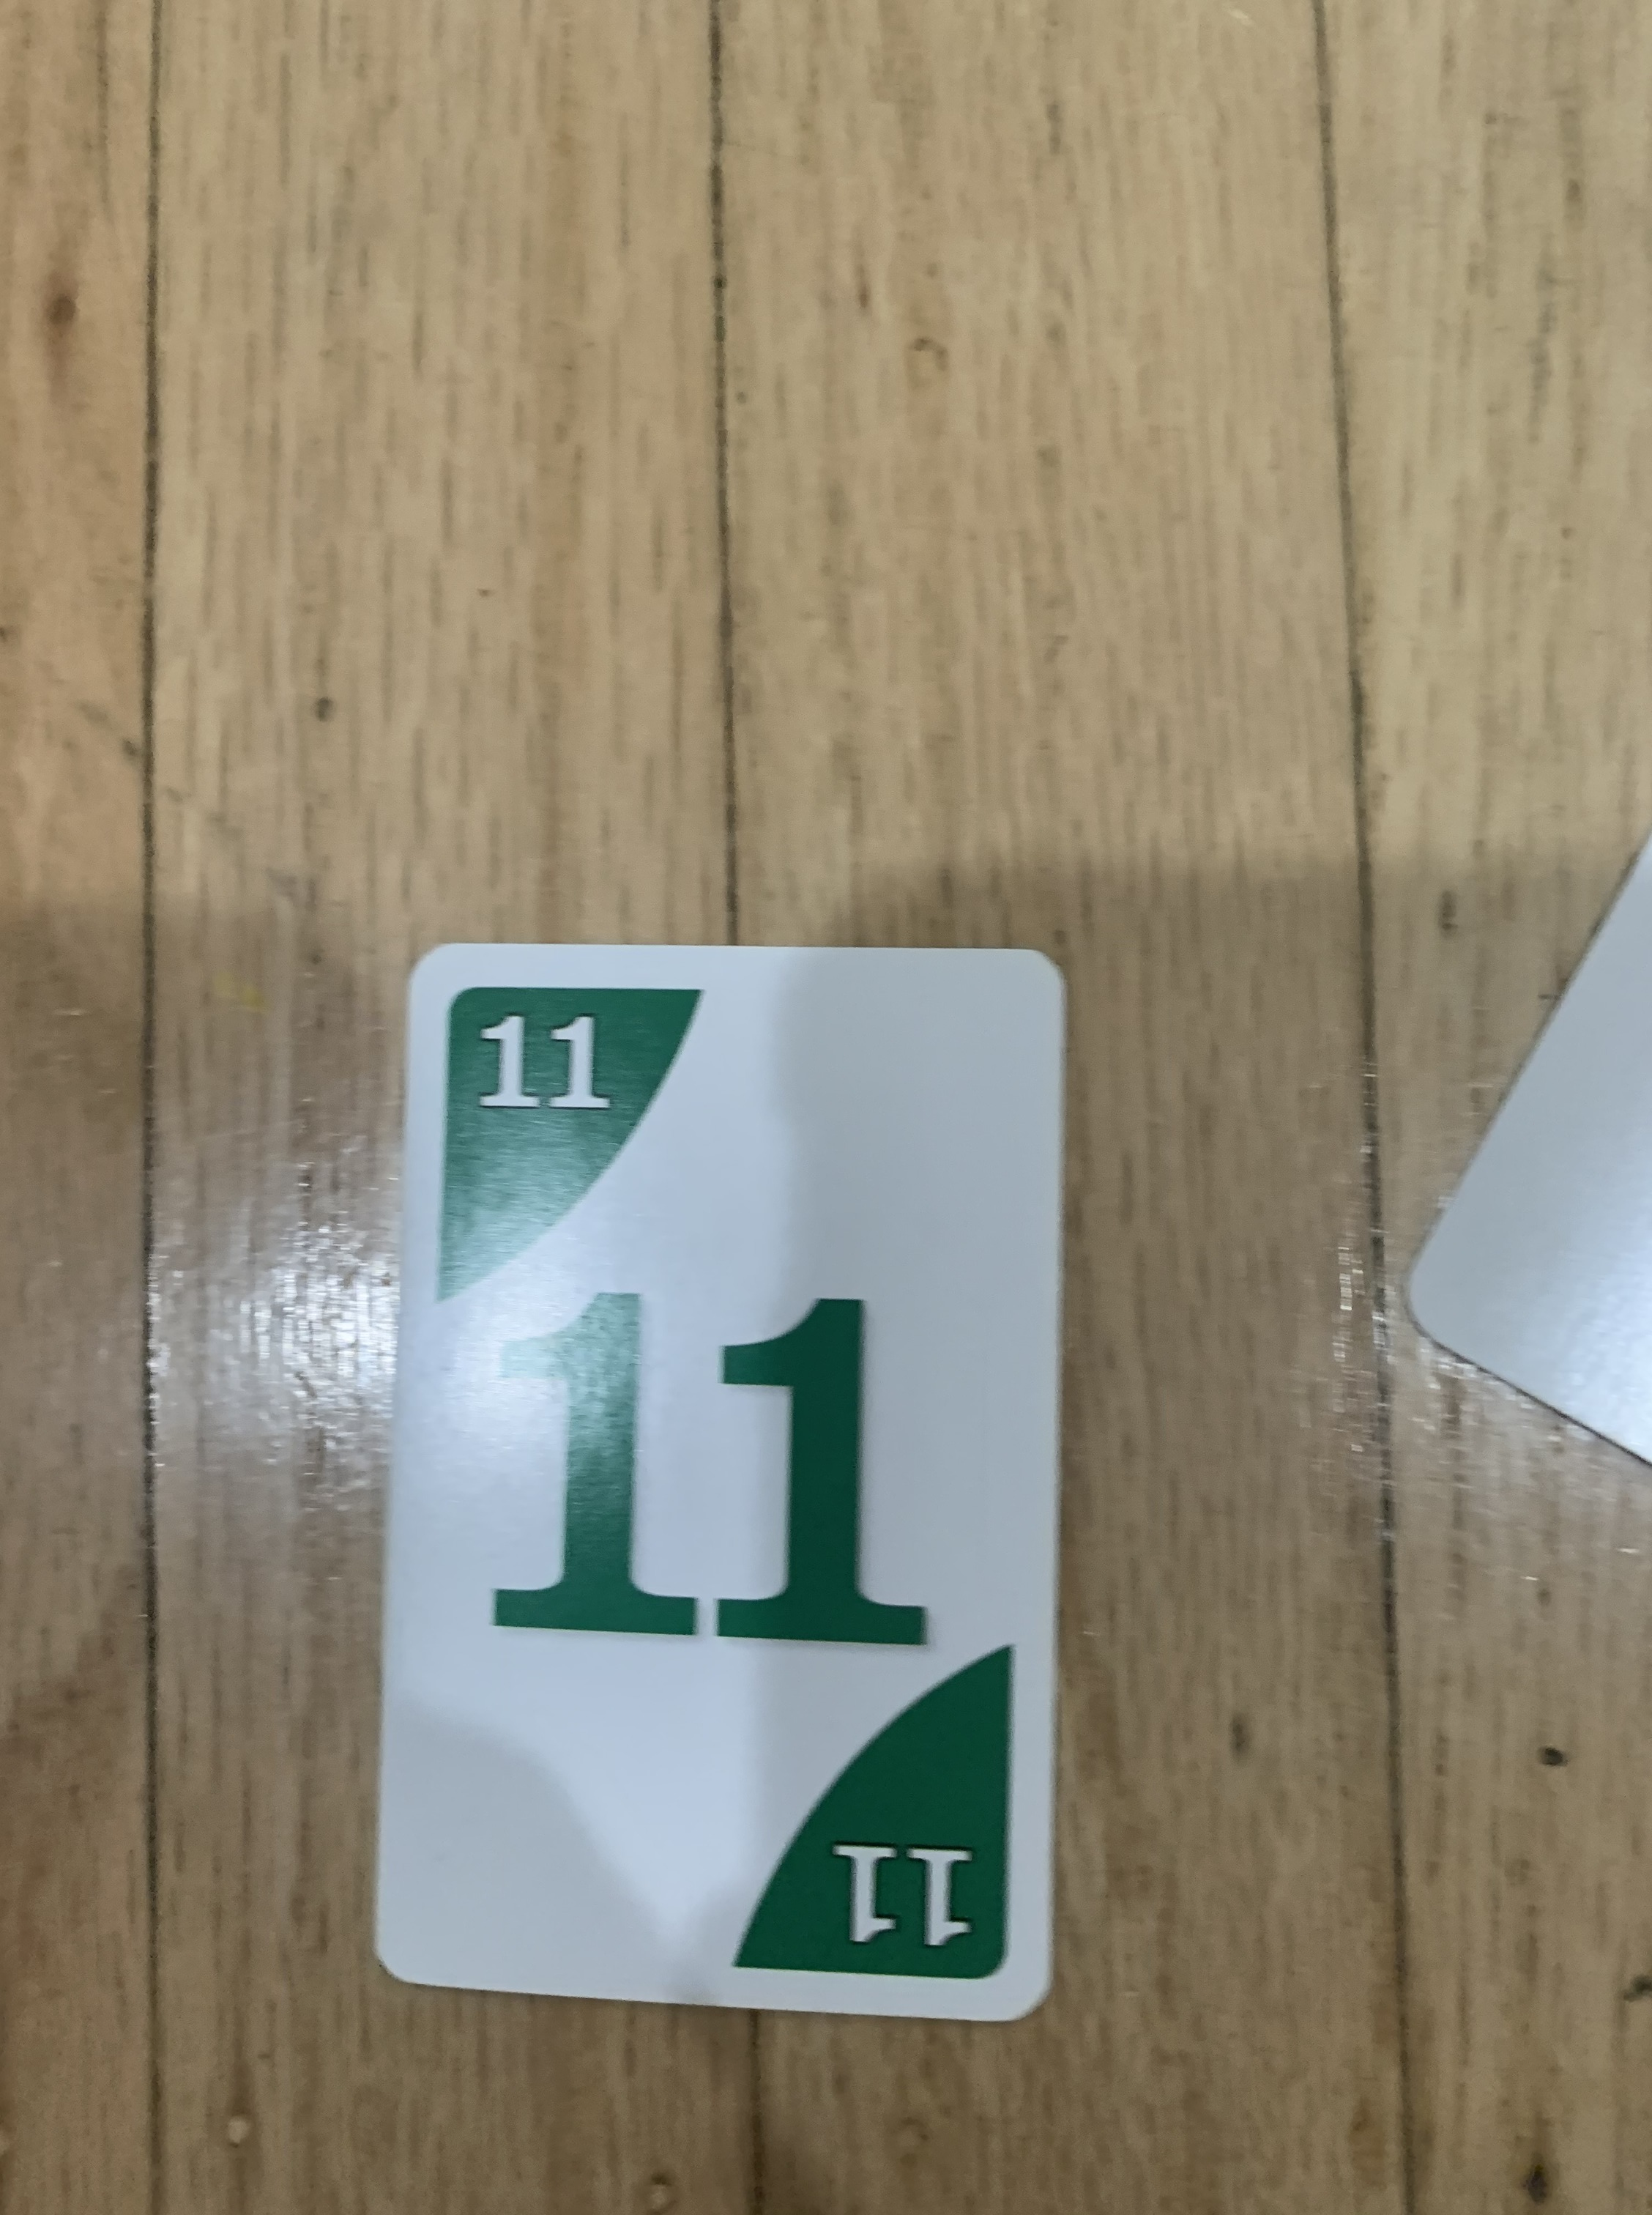eleven: (349, 929, 1072, 2028)
